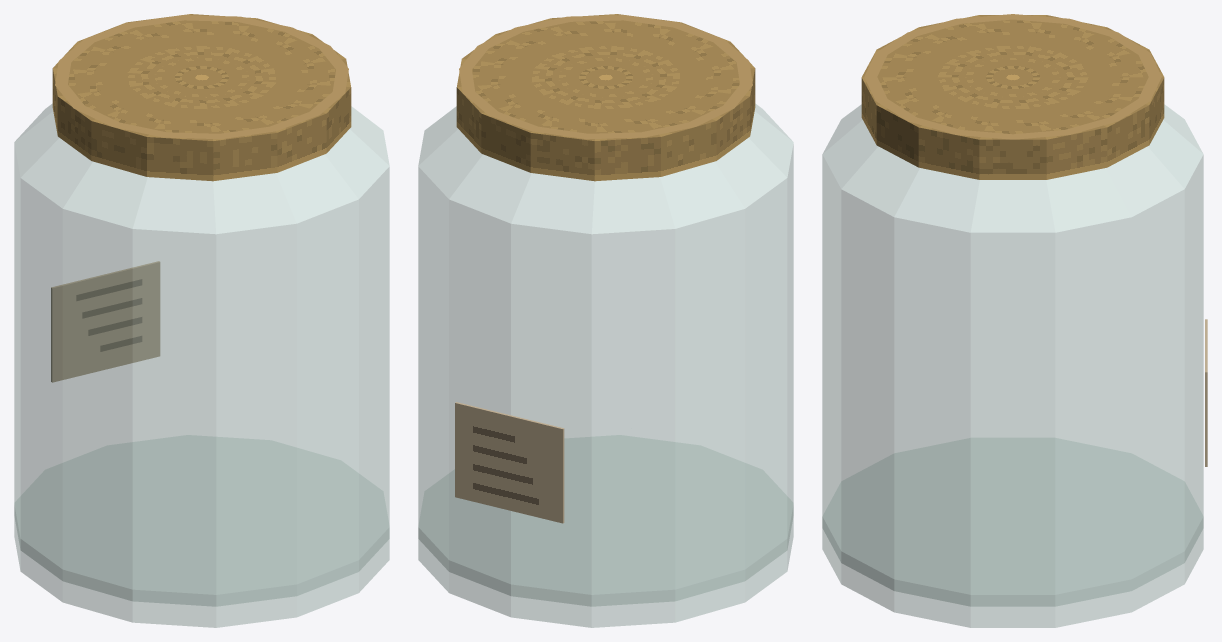
The model's file is jar_3l_glass_sealed.glb.
The picture shows the model from 3 angles, left to right: view 1: azimuth 30°, elevation 25°; view 2: azimuth 150°, elevation 25°; view 3: azimuth 270°, elevation 25°; orthographic projection.
Parts seen in each view (by area): view 1: block_glass wall, block_thick base, block_gold sealing lid, block_shoulder, block_blank label strip; view 2: block_glass wall, block_thick base, block_gold sealing lid, block_shoulder, block_blank label strip; view 3: block_glass wall, block_thick base, block_gold sealing lid, block_shoulder.
Boxes of the visible parts, x1,y1,x2,y2 form: block_glass wall: (14,144,389,606); block_thick base: (14,435,389,627); block_gold sealing lid: (52,14,351,181); block_shoulder: (14,103,389,234); block_blank label strip: (51,261,160,382); block_glass wall: (418,145,793,606); block_thick base: (418,435,793,627); block_gold sealing lid: (456,14,755,181); block_shoulder: (418,103,793,234); block_blank label strip: (455,402,564,523); block_glass wall: (822,155,1203,606); block_thick base: (822,438,1203,627); block_gold sealing lid: (861,15,1164,179); block_shoulder: (822,104,1203,232).
Size of the model in its own units: 0.1423 by 0.1997 by 0.1475.
Materials: 2 (2 with a texture image).
